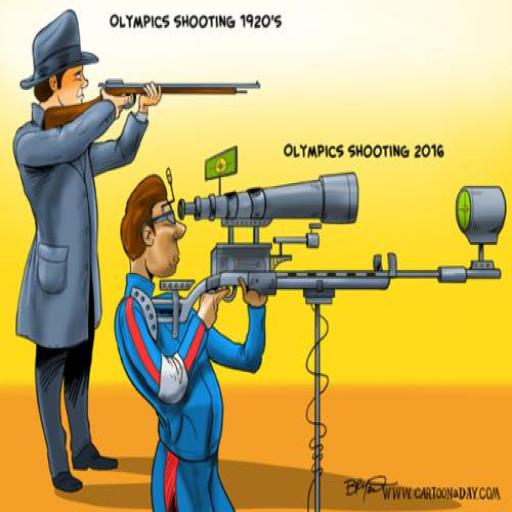shooting: (10, 8, 164, 498), (112, 171, 269, 511)
